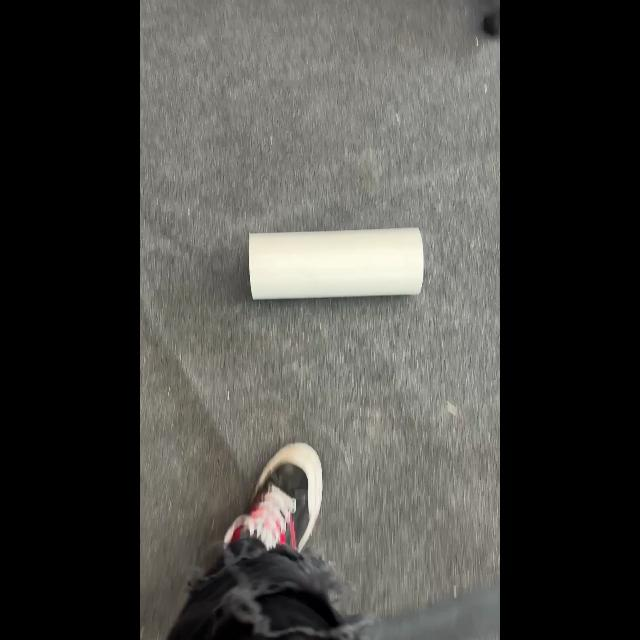CORAL: (248, 226, 424, 300)
